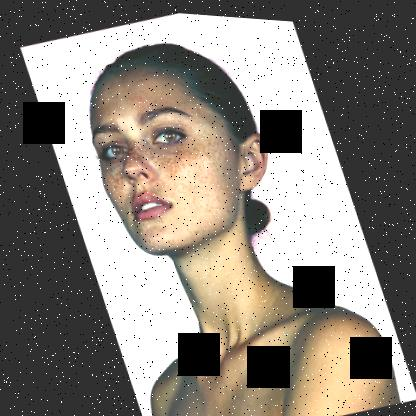Female: (66, 40, 292, 272)
